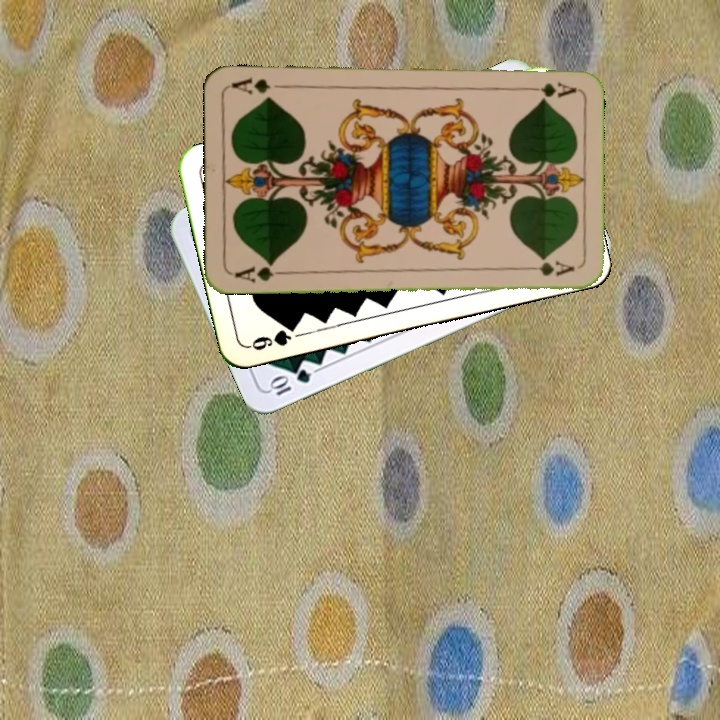G10: (265, 365, 314, 398)
G9: (244, 319, 300, 353)
GA: (230, 258, 288, 285), (519, 79, 578, 99)
